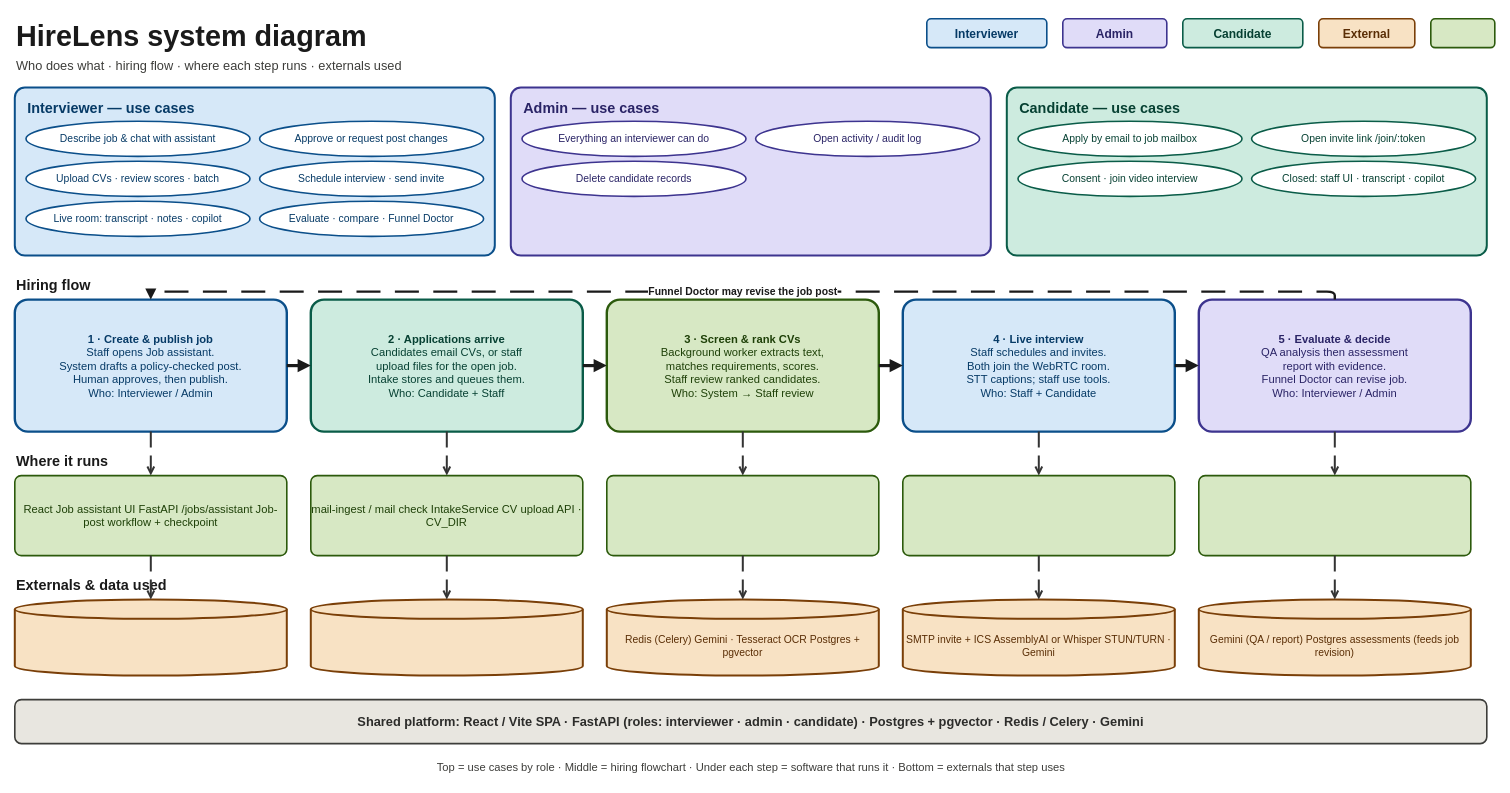
This 1510x793 diagram has some shape labels left out. Here are the shapes that lost their labels. From the top down, the centre of each, then its label:
point (1462, 33): Runs on
point (742, 515): Celery screen_candidate CV screening workflow OCR · vector index
point (1038, 515): Interview room page WebSocket /ws/interview STT · staff copilot / notes
point (1334, 515): evaluate API QA + assessment workflows Assessments · Funnel Doctor
point (150, 637): Gemini (draft / RAG) Blogger or MCP publish Postgres checkpointer
point (446, 637): IMAP application mailbox Postgres · CV files on disk
